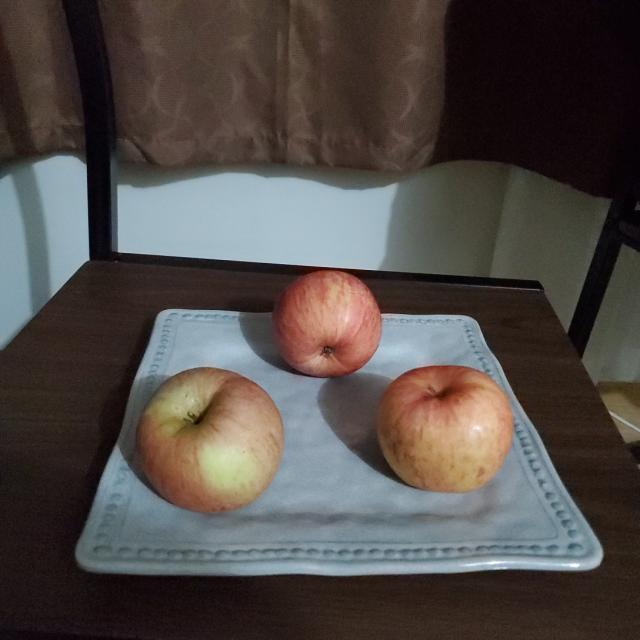apple: (138, 368, 282, 512), (377, 364, 515, 492), (274, 270, 384, 380)
